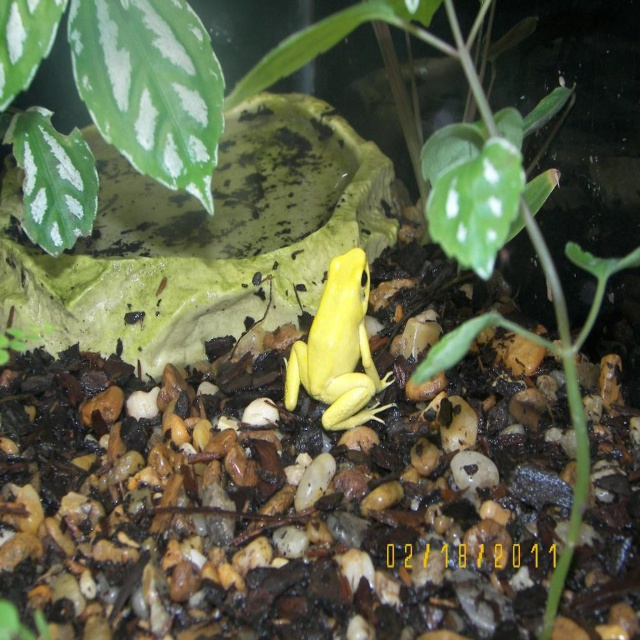Frog: (285, 247, 397, 431)
